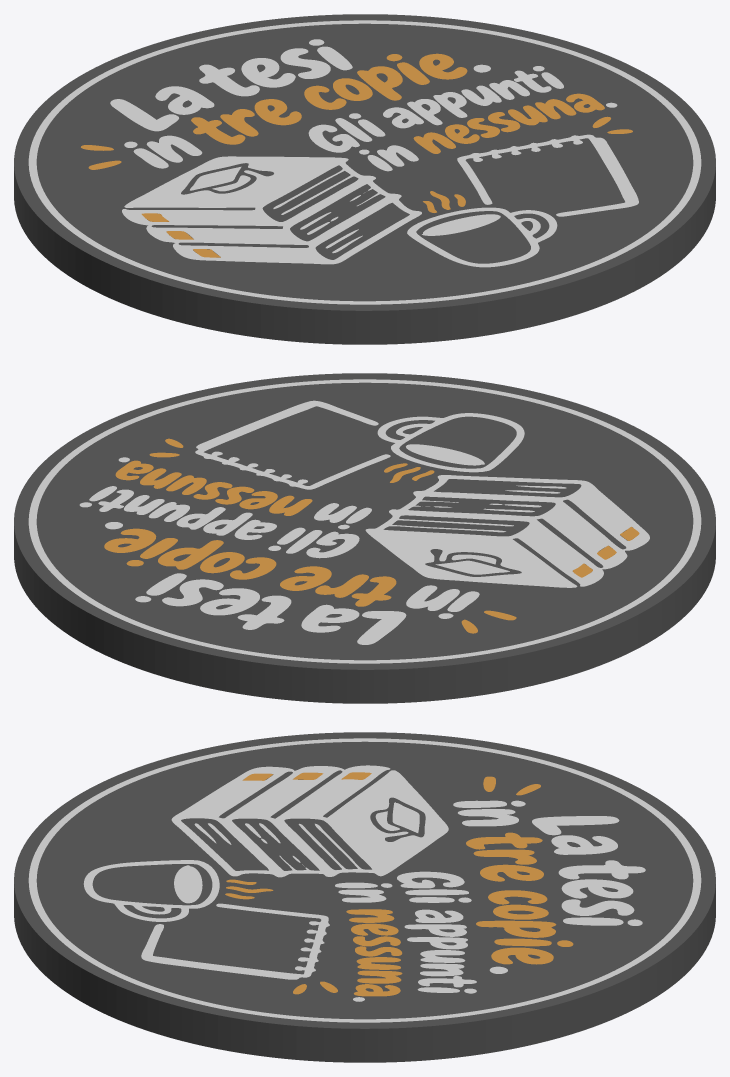
Rendered from sottobicchiere-tesi-tre-copie.glb.
3 views of the same model, one above another, from view 1: azimuth 30°, elevation 25°; view 2: azimuth 150°, elevation 25°; view 3: azimuth 270°, elevation 25° (orthographic).
Visible parts, largest first — view 1: coaster_base, coaster_ink, coaster_accent; view 2: coaster_base, coaster_ink, coaster_accent; view 3: coaster_base, coaster_ink, coaster_accent.
Boxes of the visible parts, x1=… form: coaster_base: x1=14, y1=14, x2=715, y2=344; coaster_ink: x1=28, y1=20, x2=701, y2=304; coaster_accent: x1=81, y1=53, x2=632, y2=257; coaster_base: x1=14, y1=373, x2=715, y2=703; coaster_ink: x1=28, y1=379, x2=701, y2=663; coaster_accent: x1=104, y1=438, x2=639, y2=633; coaster_base: x1=14, y1=732, x2=715, y2=1062; coaster_ink: x1=28, y1=738, x2=701, y2=1022; coaster_accent: x1=225, y1=772, x2=573, y2=996.
Bounding box in the file's own units: 0.075 × 0.004 × 0.075.
